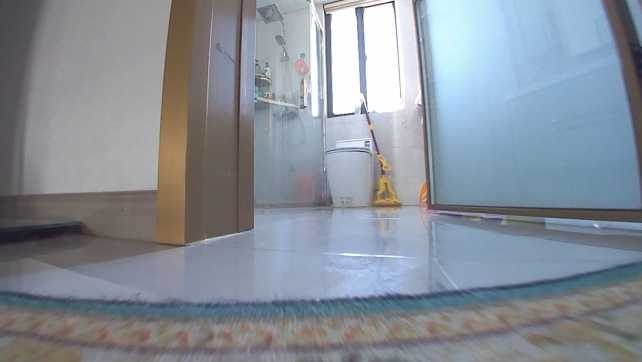blanket: (0, 260, 640, 361)
door_anno: (414, 0, 640, 222)
toilet: (324, 135, 378, 208)
